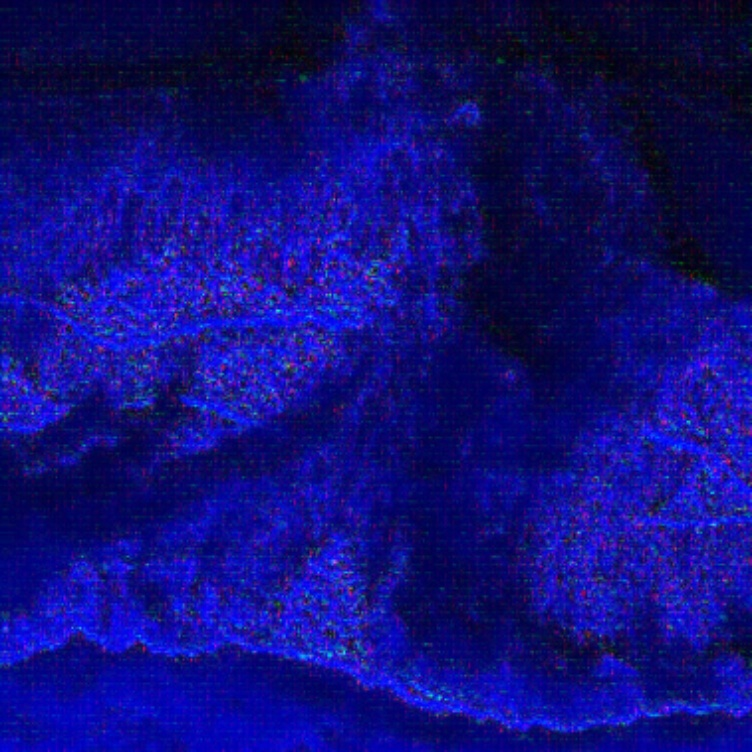rip_current: (278, 109, 670, 672)
